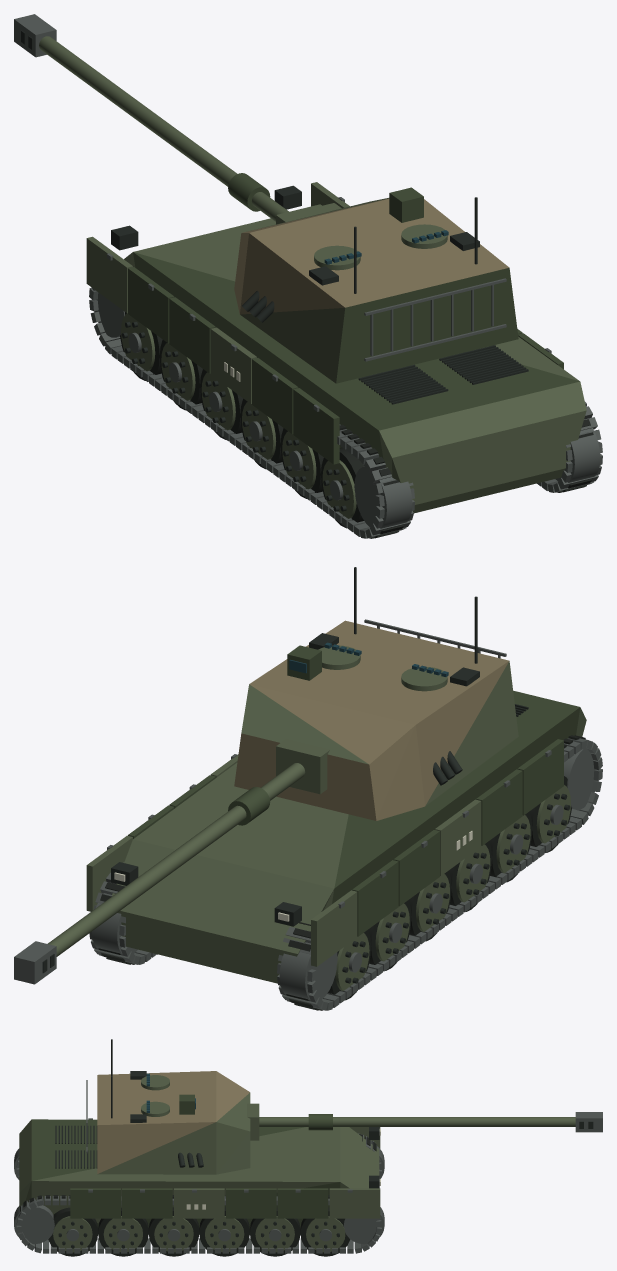
File: k9-exhibit.glb
3 renders of one model, top to bottom at view 1: azimuth 30°, elevation 25°; view 2: azimuth 150°, elevation 25°; view 3: azimuth 270°, elevation 25°, orthographic. The views are drawn at different scales.
Parts seen in each view (by area): view 1: Hull, Turret, Track_L, Gun, Track_R, Wheel_-1_5, Wheel_-1_1, Wheel_-1_2, Wheel_-1_3, Wheel_-1_4, Wheel_-1_0; view 2: Hull, Turret, Track_L, Gun, Track_R, Wheel_-1_4, Wheel_-1_1, Wheel_-1_3, Wheel_-1_2, Wheel_-1_5, Wheel_-1_0; view 3: Hull, Turret, Track_R, Gun, Wheel_1_5, Wheel_1_2, Wheel_1_3, Wheel_1_1, Wheel_1_4, Wheel_1_0, Track_L.
Boxes of the visible parts, <box> form: Hull: <box>86,182,586,513</box>; Turret: <box>234,187,518,383</box>; Track_L: <box>89,287,414,538</box>; Gun: <box>14,14,329,224</box>; Track_R: <box>537,402,602,492</box>; Wheel_-1_5: <box>321,447,364,528</box>; Wheel_-1_1: <box>159,340,202,410</box>; Wheel_-1_2: <box>200,369,243,439</box>; Wheel_-1_3: <box>240,398,283,469</box>; Wheel_-1_4: <box>280,428,323,498</box>; Wheel_-1_0: <box>120,312,162,380</box>; Hull: <box>86,690,586,983</box>; Turret: <box>234,567,518,820</box>; Track_L: <box>277,735,602,1010</box>; Gun: <box>14,739,329,984</box>; Track_R: <box>89,862,156,964</box>; Wheel_-1_4: <box>489,812,532,882</box>; Wheel_-1_1: <box>368,900,411,970</box>; Wheel_-1_3: <box>448,841,491,911</box>; Wheel_-1_2: <box>408,871,451,941</box>; Wheel_-1_5: <box>529,776,571,852</box>; Wheel_-1_0: <box>328,930,370,1000</box>; Hull: <box>19,1118,380,1234</box>; Turret: <box>86,1039,250,1174</box>; Track_R: <box>14,1195,384,1253</box>; Gun: <box>247,1103,602,1140</box>; Wheel_1_5: <box>48,1207,97,1256</box>; Wheel_1_2: <box>199,1207,249,1256</box>; Wheel_1_3: <box>148,1207,199,1256</box>; Wheel_1_1: <box>250,1207,300,1256</box>; Wheel_1_4: <box>98,1207,148,1256</box>; Wheel_1_0: <box>300,1207,350,1256</box>; Track_L: <box>14,1133,384,1179</box>.
Bounding box in the file's own units: 3.49 × 3.77 × 12.11.
